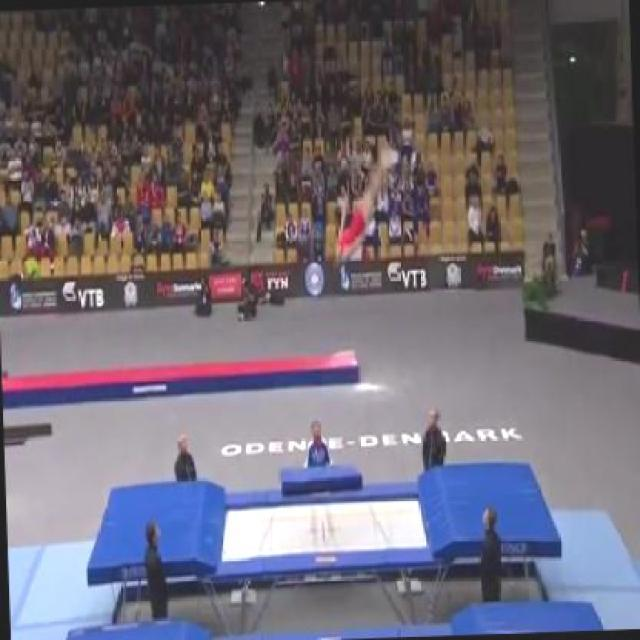non-fight: (330, 144, 398, 266)
